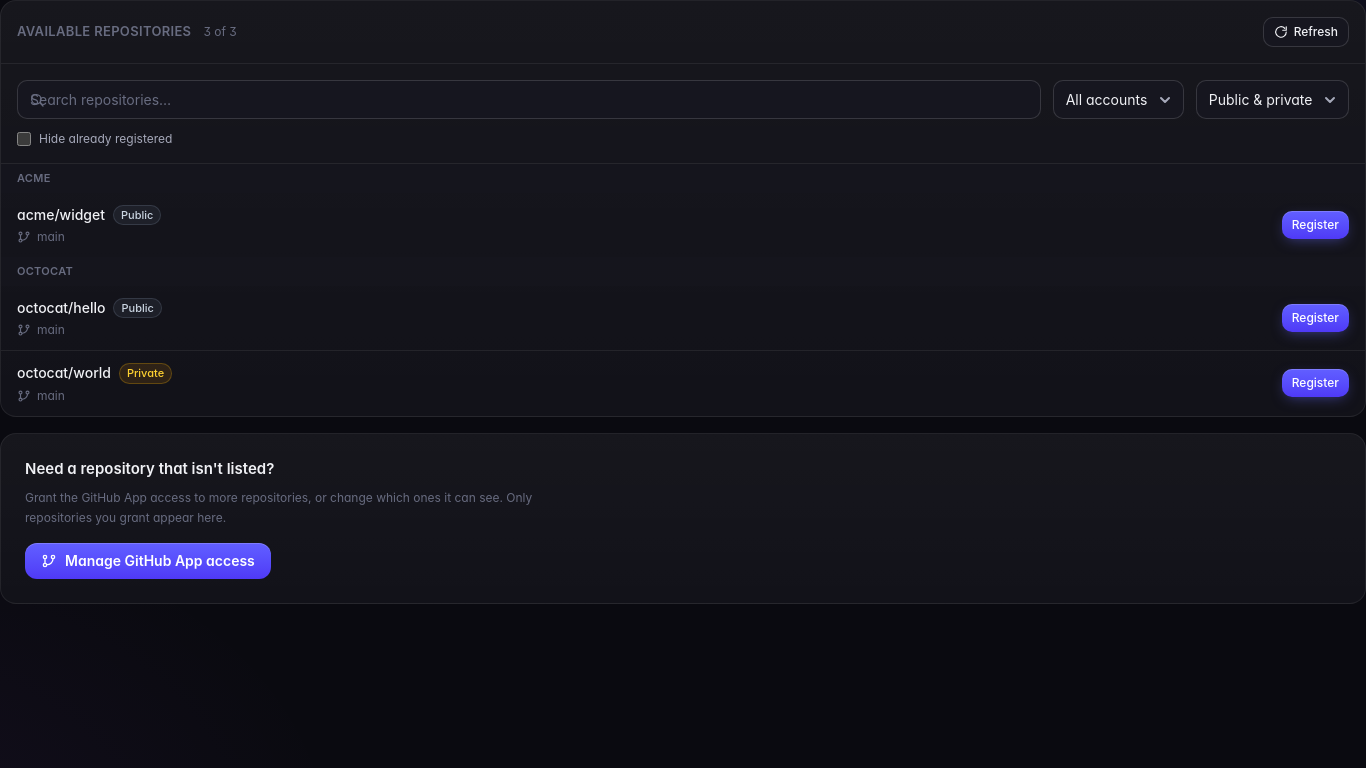
Test: RepoPicker filtering › filters by visibility
Select "Private only" in the 2nd dropdown named "Filter by visibility". click: (1272, 100)
box: [1196,80,1349,119]
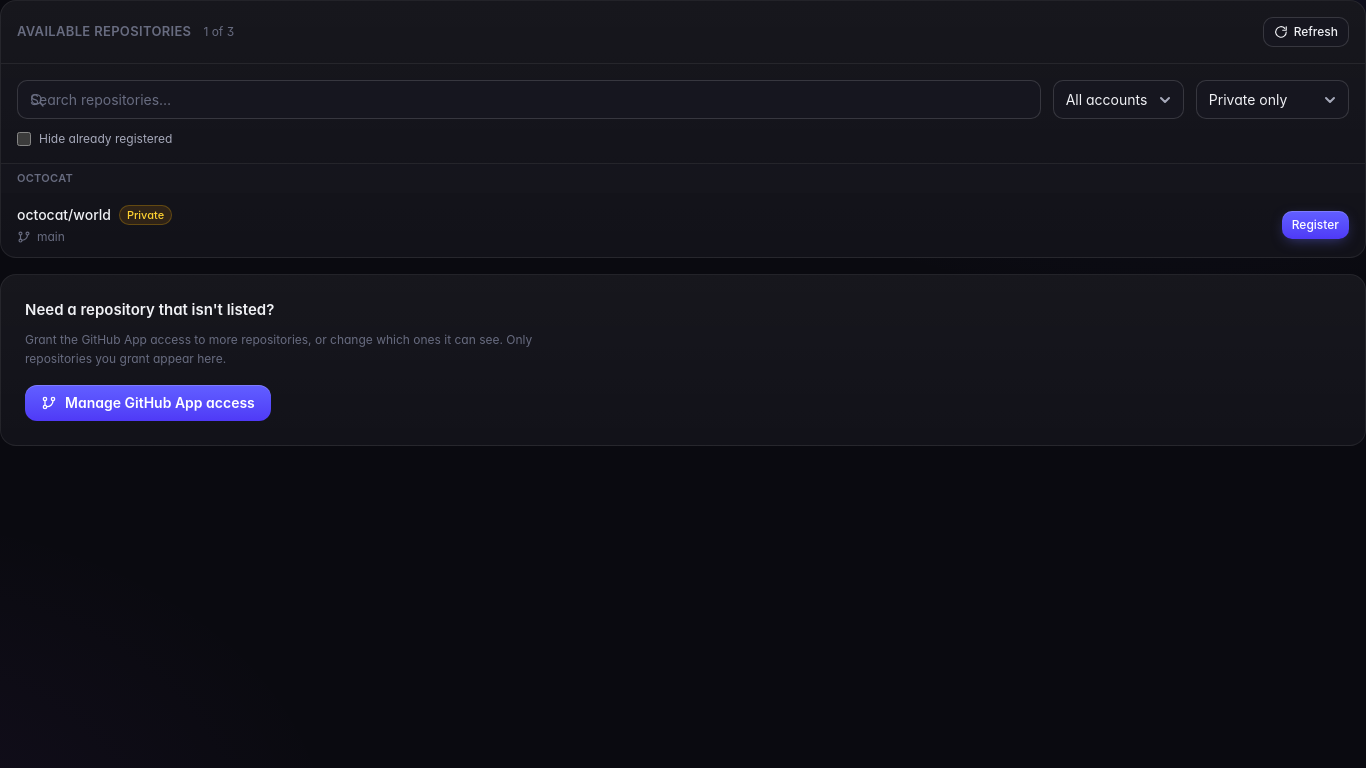
Expected: the text "octocat/world" is shown, [17,205,111,225]
Expected: the text "acme/widget" is gone
